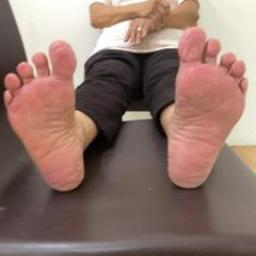Plantar View -Both Feet-: (1, 19, 253, 195)
